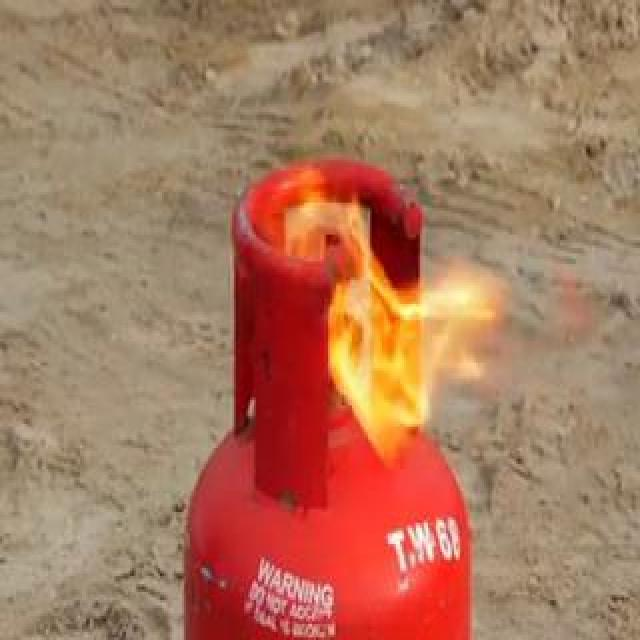Fire: (241, 138, 607, 498)
